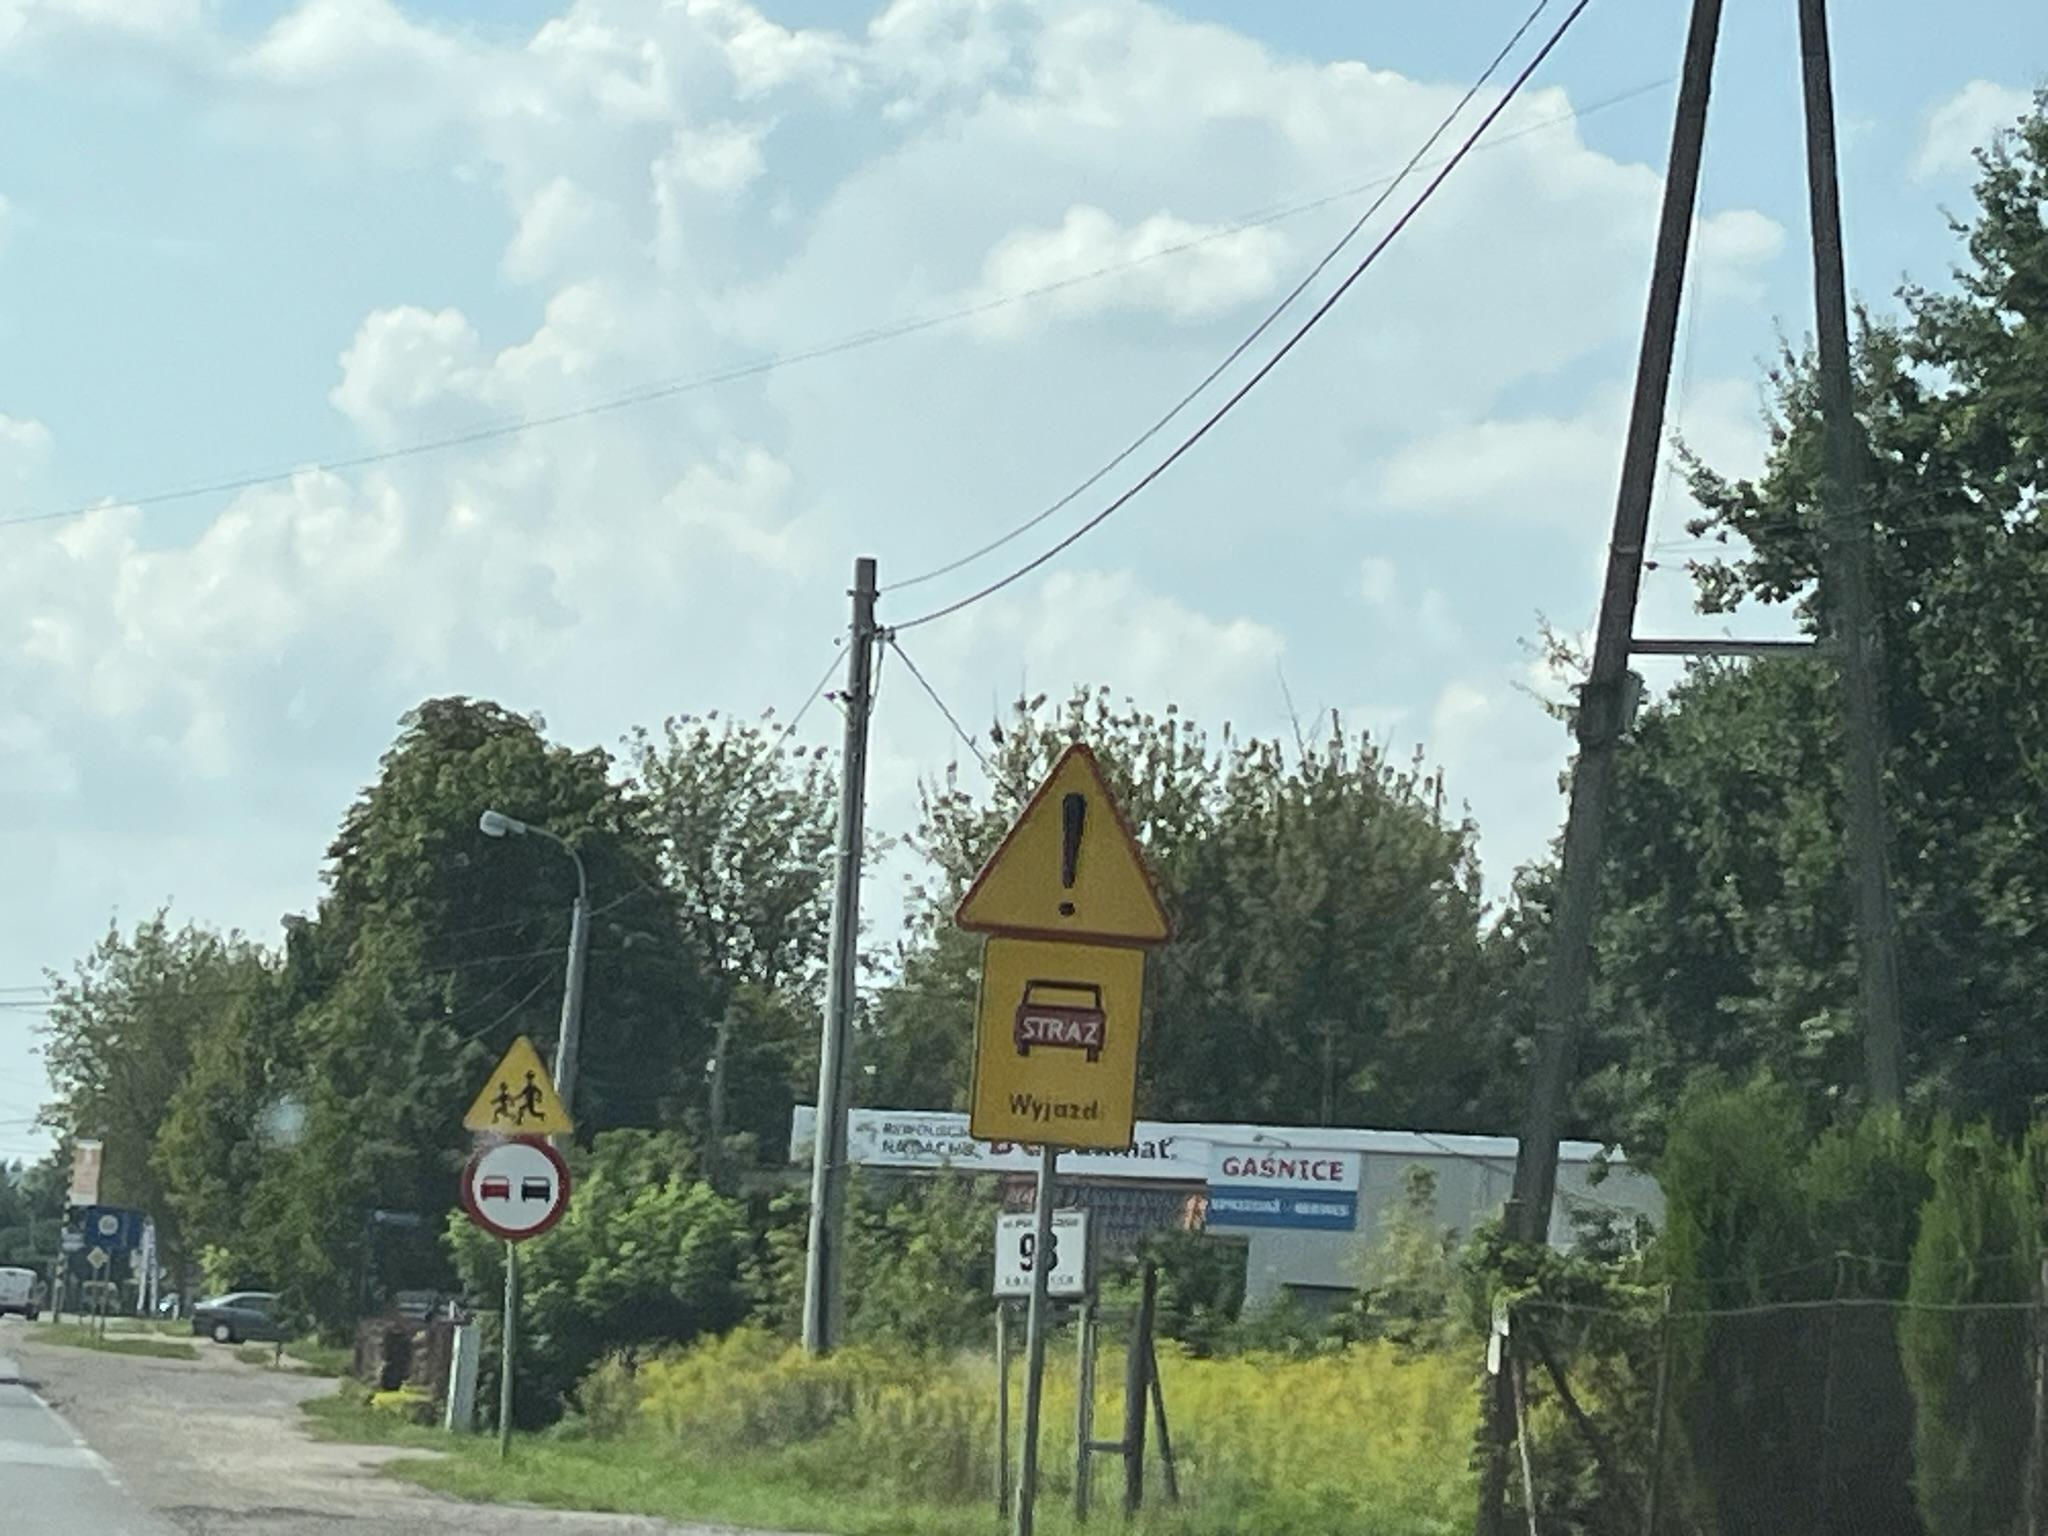other: (972, 933, 1142, 1155)
prohibitory: (461, 1137, 571, 1241)
warning: (951, 741, 1177, 945), (461, 1033, 577, 1137)
